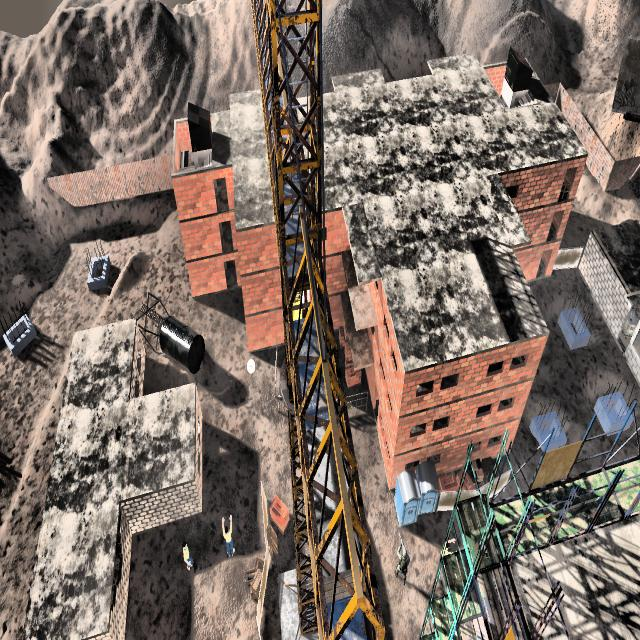bad: (388, 530, 415, 590)
good: (218, 514, 238, 564), (178, 536, 196, 584), (441, 530, 459, 557)
